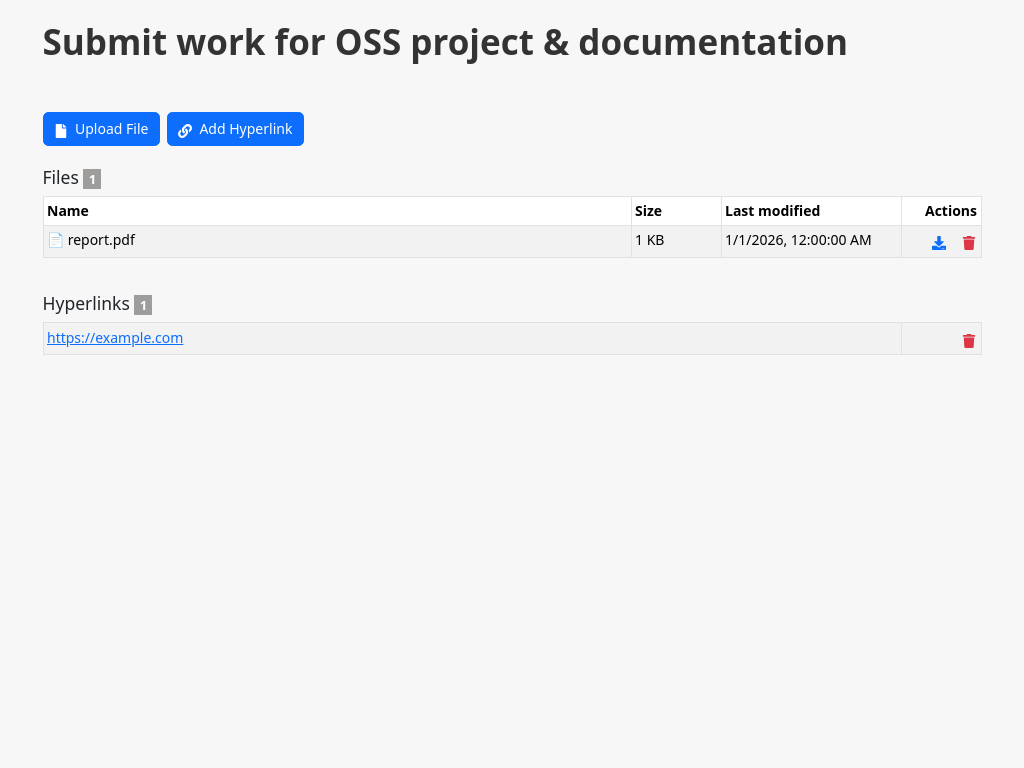
it: SubmittedContent › names the file in the confirmation modal
The width and height of the screenshot is (1024, 768).
Expected: the text "📄 report.pdf" is shown, top-left (43, 225), bottom-right (631, 257)
What coordinates should you click on to do the following:
click the button titled "Delete report.pdf"
I would click on:
 (969, 242)
Its box is top-left (961, 230), bottom-right (977, 253).
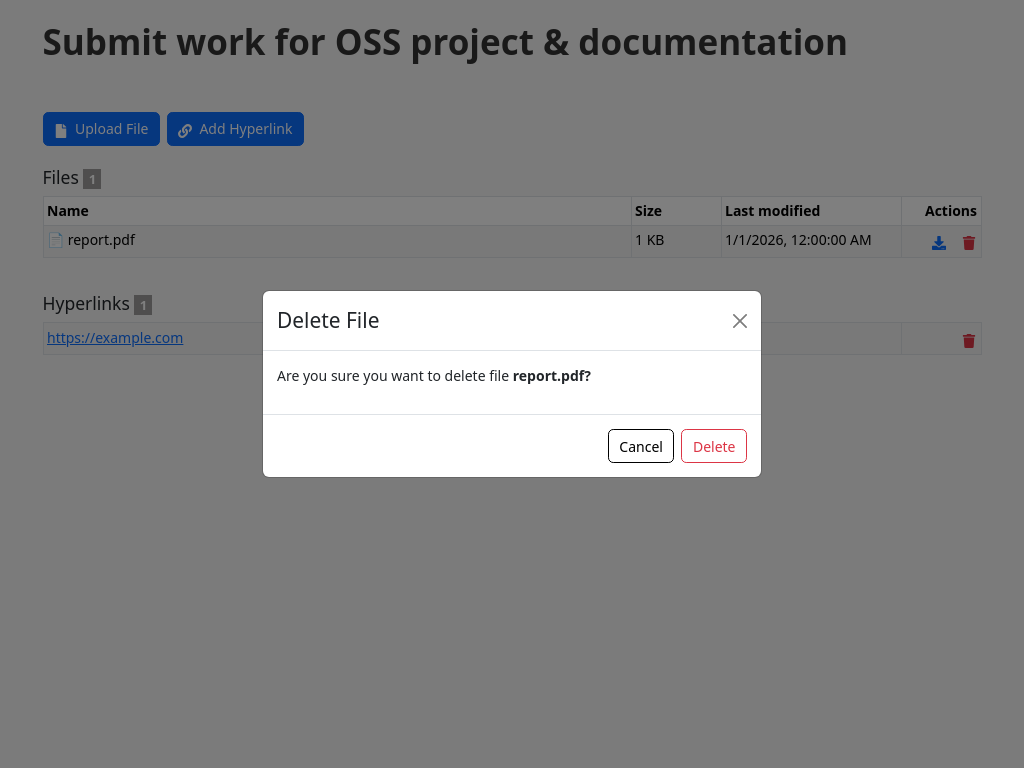
Result: the text "Delete File" is shown at top-left (277, 305), bottom-right (380, 336)
Result: the text "report.pdf?" is shown at top-left (513, 366), bottom-right (591, 385)
